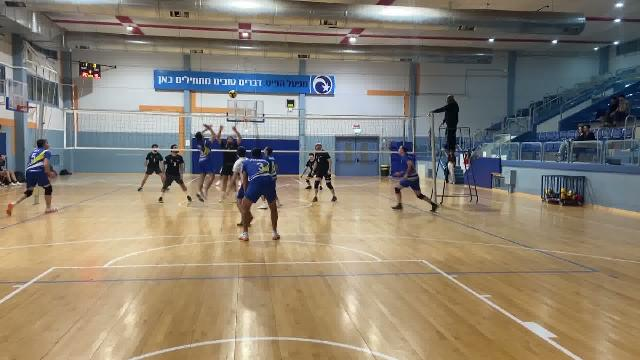ball: (227, 89, 237, 99)
